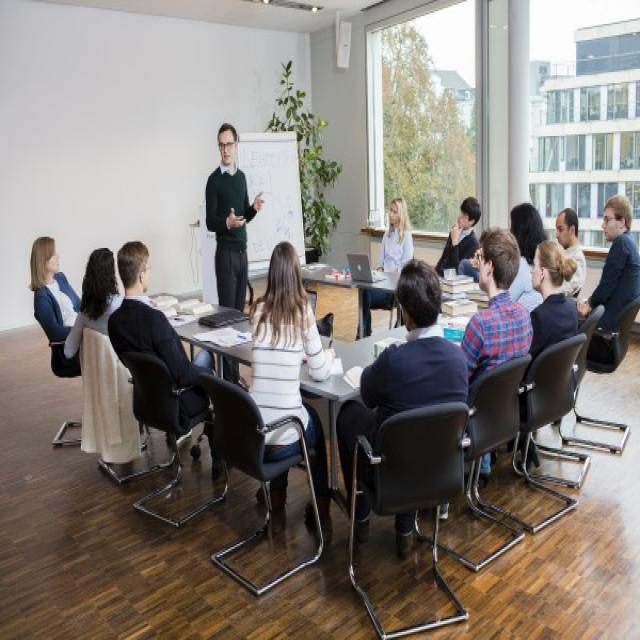body: (333, 255, 472, 542), (108, 235, 235, 490), (246, 238, 337, 530), (204, 120, 268, 397), (524, 76, 639, 226), (458, 225, 536, 388), (576, 194, 640, 368), (354, 194, 415, 342), (29, 234, 84, 379), (62, 246, 125, 362), (529, 238, 581, 360), (506, 200, 549, 312), (433, 194, 483, 278), (554, 206, 588, 301)
